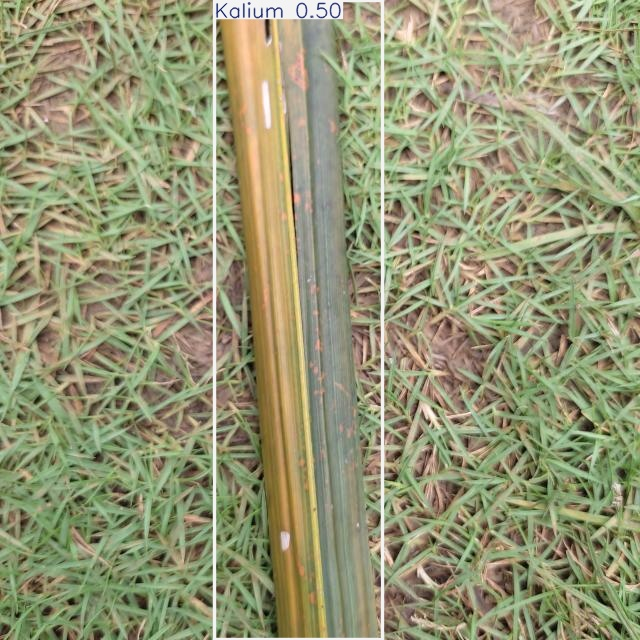Kalium: (215, 1, 383, 639)
